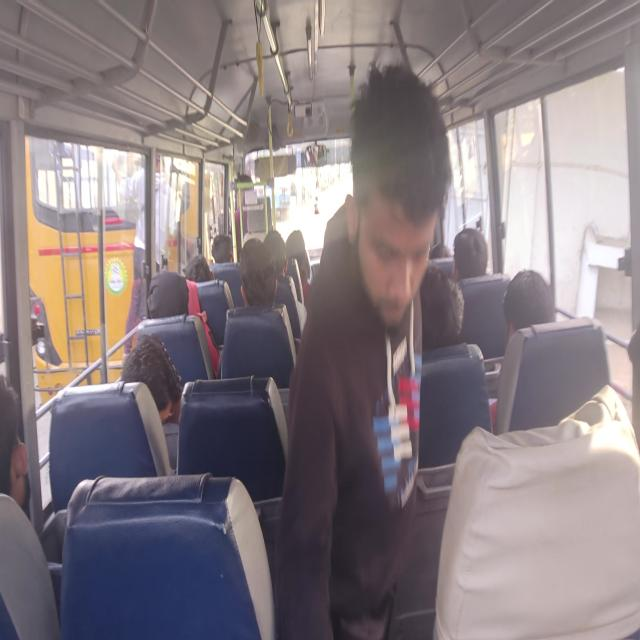person: (350, 77, 446, 326), (0, 381, 45, 587), (118, 340, 188, 420), (604, 322, 640, 463), (414, 280, 470, 351), (504, 273, 552, 352), (236, 246, 278, 315), (455, 224, 496, 282), (147, 272, 193, 323), (264, 231, 292, 279), (183, 256, 212, 302), (426, 233, 451, 272), (288, 230, 308, 266), (213, 234, 234, 266)
